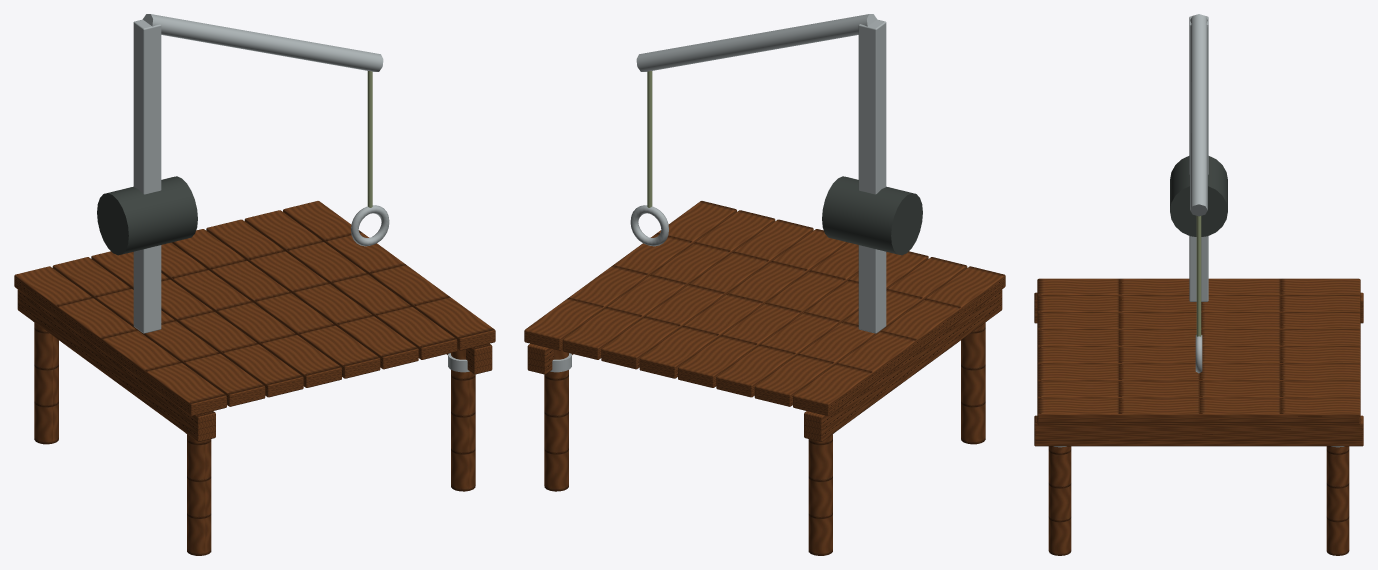
Rendered from flooded-and-coastal-survival-winch-landing-5436d019__20056.glb.
The picture shows the model from 3 angles, left to right: view 1: azimuth 30°, elevation 25°; view 2: azimuth 150°, elevation 25°; view 3: azimuth 270°, elevation 25°; orthographic projection. The views are drawn at different scales.
Parts seen in each view (by area): view 1: winch-landing; view 2: winch-landing; view 3: winch-landing.
Boxes of the visible parts, box(x1,y1,x2,y2) form: winch-landing: box(14, 14, 495, 555); winch-landing: box(524, 14, 1005, 555); winch-landing: box(1034, 14, 1363, 555).
Size of the model in its own units: 1.99 by 2.95 by 2.04.
4 materials, 1 textured.
